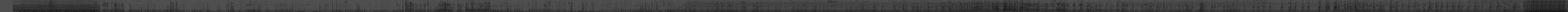Moan: (1389, 0, 1392, 12), (1428, 0, 1431, 12), (1335, 0, 1337, 12), (1354, 0, 1356, 12)
